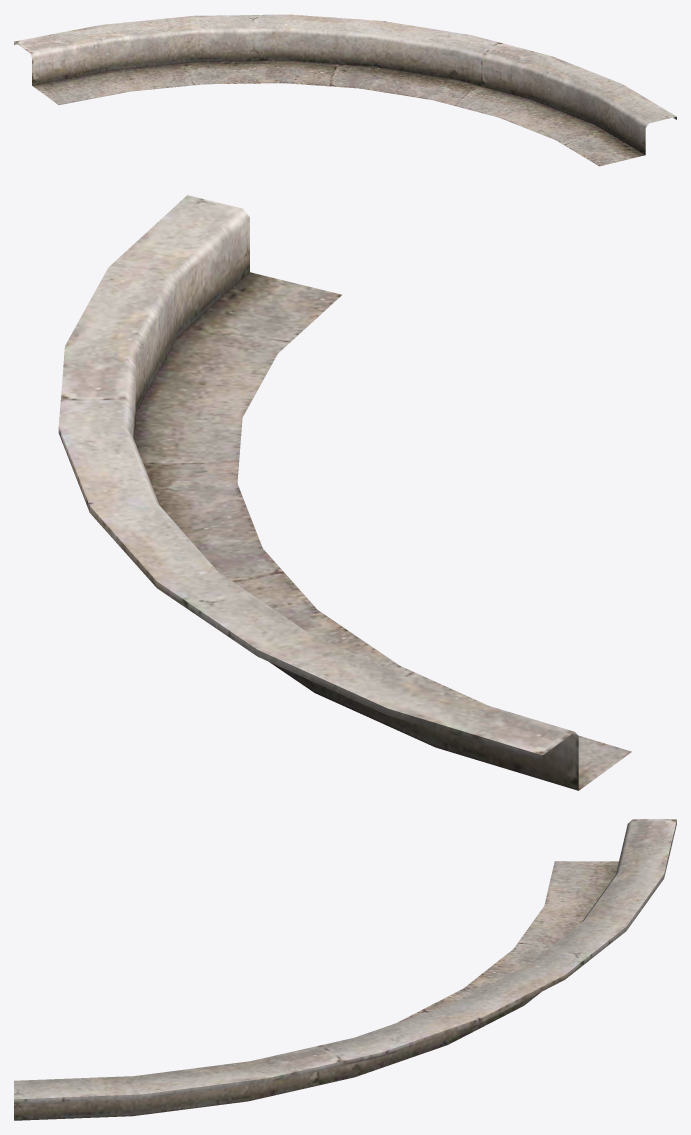
The model's file is pavement_corner_round_in_big_modular_pavement_old_0_lev1.glb.
3 renders of one model, top to bottom at view 1: azimuth 30°, elevation 25°; view 2: azimuth 150°, elevation 25°; view 3: azimuth 270°, elevation 25°, orthographic. The views are drawn at different scales.
Parts seen in each view (by area): view 1: pavement_corner_round_in_big_modular_pavement_old_0_lev1; view 2: pavement_corner_round_in_big_modular_pavement_old_0_lev1; view 3: pavement_corner_round_in_big_modular_pavement_old_0_lev1.
Part boxes in pixels (x1=…): pavement_corner_round_in_big_modular_pavement_old_0_lev1: x1=14, y1=14, x2=676, y2=166; pavement_corner_round_in_big_modular_pavement_old_0_lev1: x1=58, y1=195, x2=631, y2=790; pavement_corner_round_in_big_modular_pavement_old_0_lev1: x1=14, y1=819, x2=676, y2=1120.
Size of the model in its own units: 0.6852 by 0.0482 by 0.6852.
Materials: 1 (1 with a texture image).
